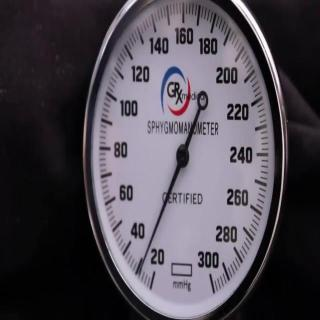gauge: (80, 0, 291, 320), (140, 262, 168, 294), (201, 266, 219, 298), (174, 146, 190, 168), (132, 264, 144, 278)
